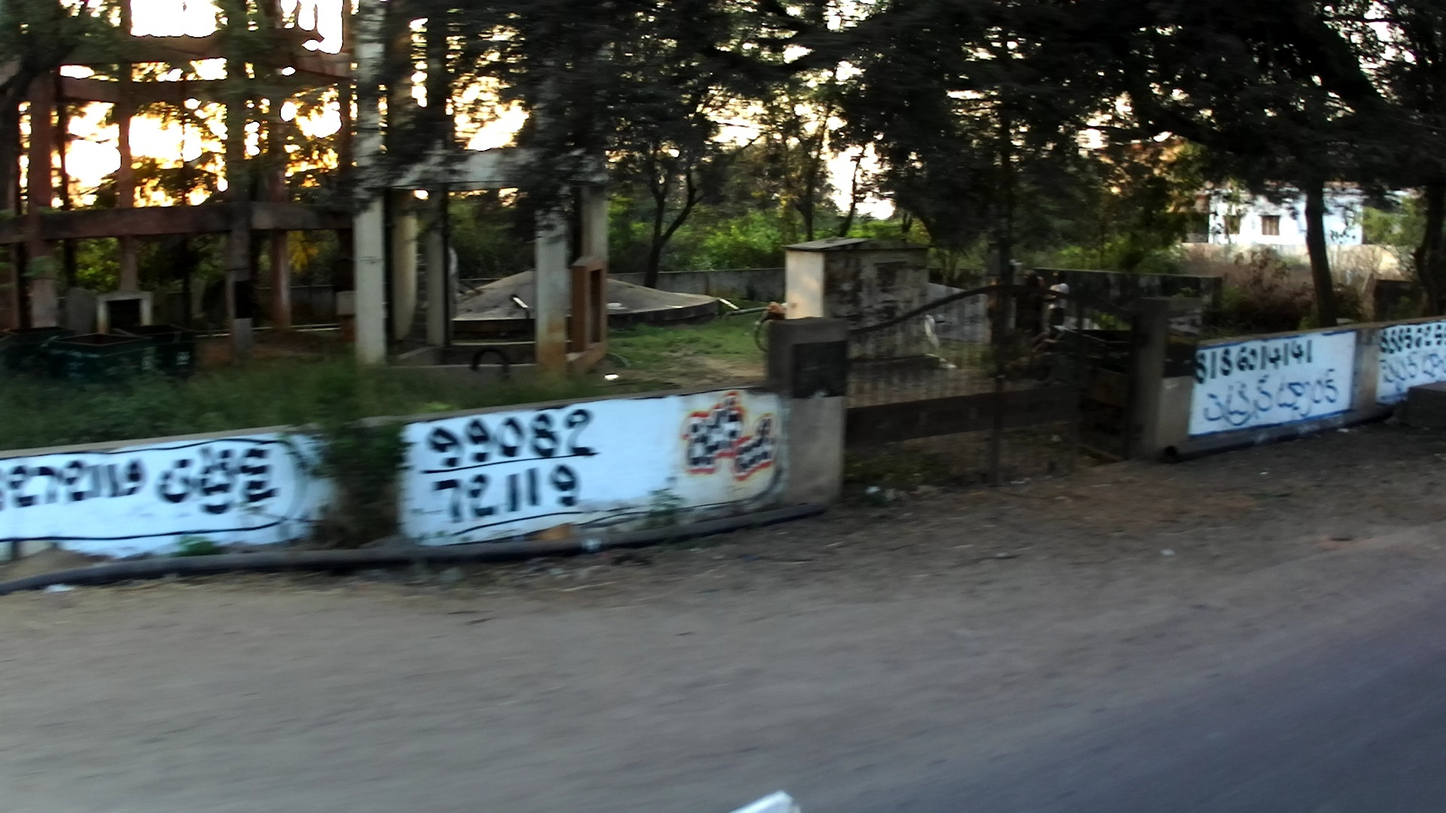bicycle: (753, 301, 786, 354)
person: (1048, 269, 1069, 330)
